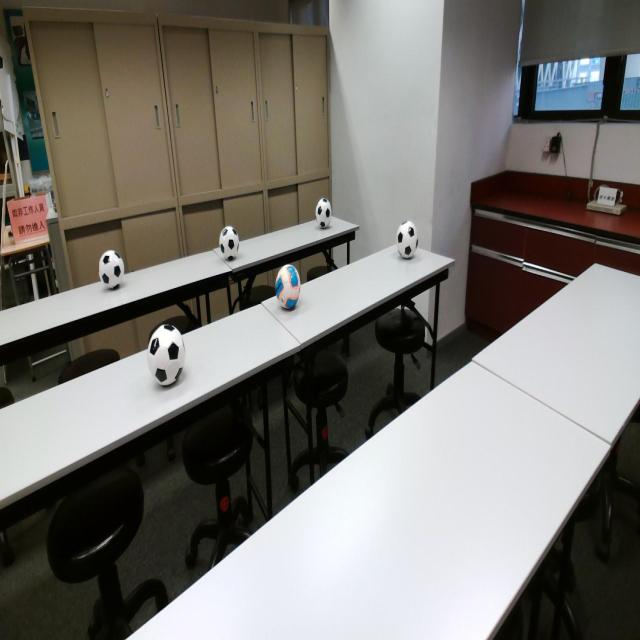Soccer Ball: (149, 325, 184, 386), (101, 252, 123, 288), (397, 222, 418, 259), (219, 225, 240, 259), (316, 197, 331, 228)
